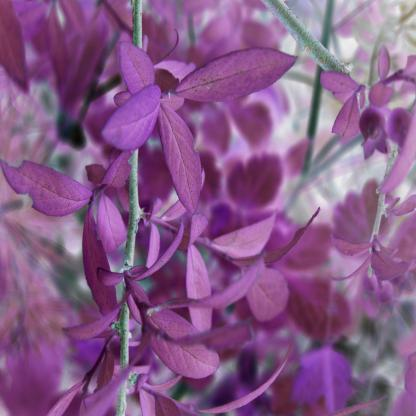Blueberry leaf: (170, 42, 297, 112), (141, 300, 227, 392), (153, 98, 210, 236), (1, 150, 92, 235), (94, 72, 168, 158), (77, 207, 127, 328), (178, 245, 223, 346), (208, 204, 287, 259), (114, 34, 161, 96)
